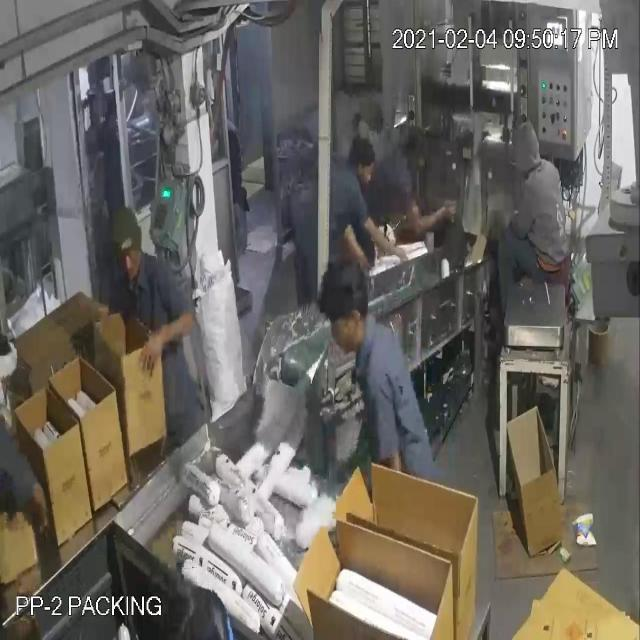No_Gloves: (36, 52, 434, 509)
